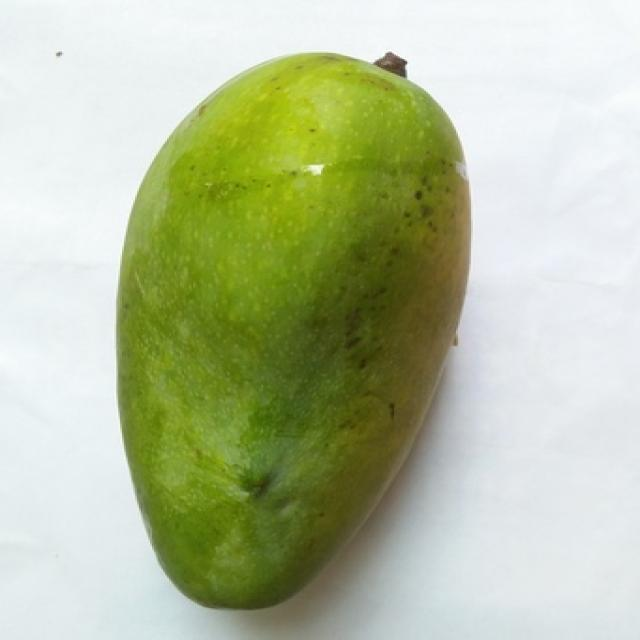Mango: (118, 55, 467, 608)
